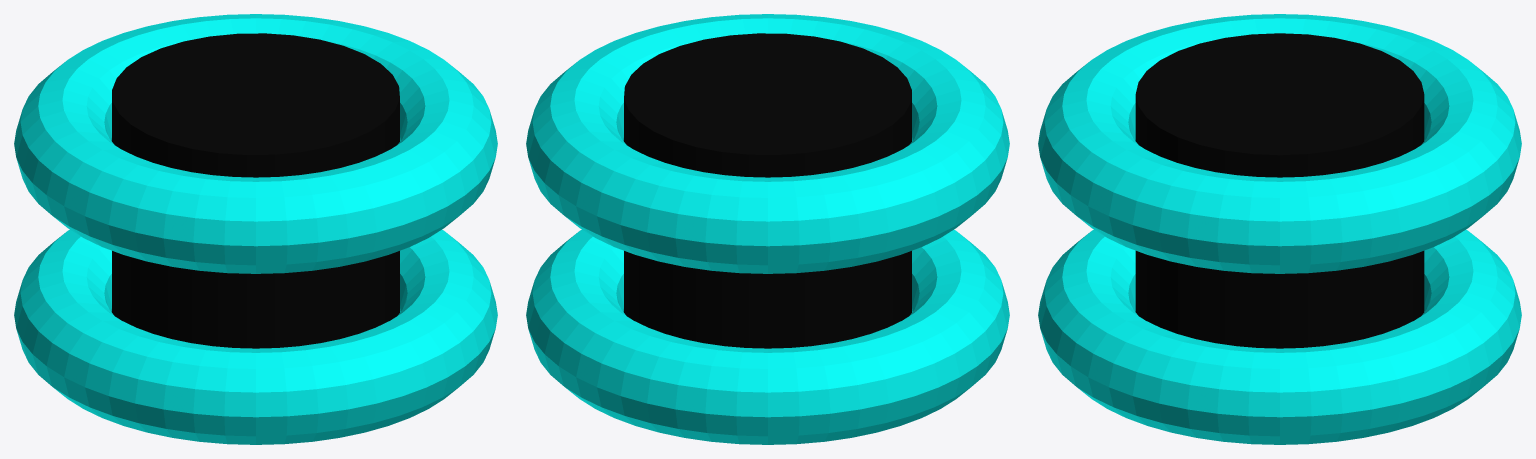
The model's file is Kek torony kozepso.glb.
The picture shows the model from 3 angles, left to right: view 1: azimuth 30°, elevation 25°; view 2: azimuth 150°, elevation 25°; view 3: azimuth 270°, elevation 25°; orthographic projection.
Parts seen in each view (by area): view 1: Torus.003; view 2: Torus.003; view 3: Torus.003.
Part boxes in pixels (box(x1,y1,x2,y2)): Torus.003: box(14, 14, 497, 444); Torus.003: box(526, 14, 1009, 444); Torus.003: box(1038, 14, 1521, 444).
Bounding box in the file's own units: 1.51 × 0.9126 × 1.51.
